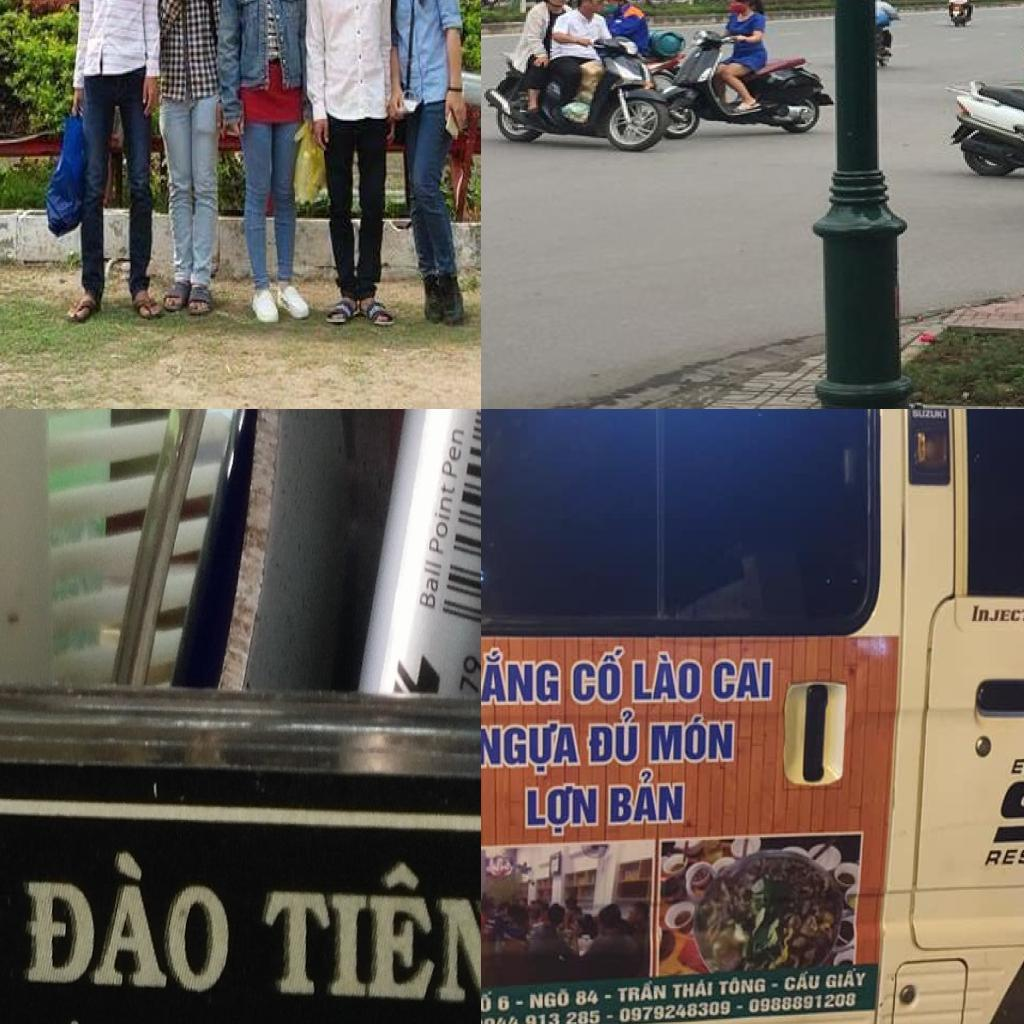text: (260, 855, 481, 1010), (23, 841, 234, 999), (481, 717, 583, 776), (481, 645, 564, 709), (646, 714, 737, 768), (606, 769, 688, 827), (524, 782, 600, 840), (630, 650, 703, 706), (567, 647, 626, 706), (584, 708, 640, 769), (710, 655, 774, 705), (618, 999, 733, 1024), (746, 991, 858, 1016), (424, 480, 459, 559), (989, 776, 1024, 847), (481, 1007, 602, 1024), (416, 556, 445, 615), (438, 424, 467, 482), (615, 980, 669, 1006), (455, 648, 481, 699), (718, 974, 767, 999), (969, 603, 1024, 625), (824, 967, 870, 992), (981, 842, 1024, 868), (670, 978, 716, 1002), (528, 987, 572, 1012), (783, 968, 822, 995), (575, 986, 601, 1010), (481, 989, 494, 1016), (497, 994, 512, 1014), (769, 981, 781, 991), (514, 998, 525, 1008), (605, 1012, 615, 1021), (604, 994, 613, 1002), (736, 1004, 745, 1012)
